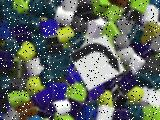Right: (68, 34, 125, 91)
